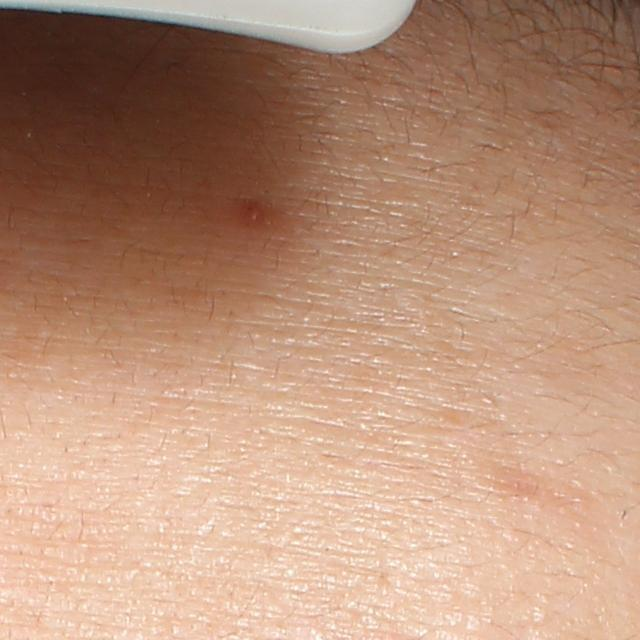papule: (237, 197, 273, 233)
